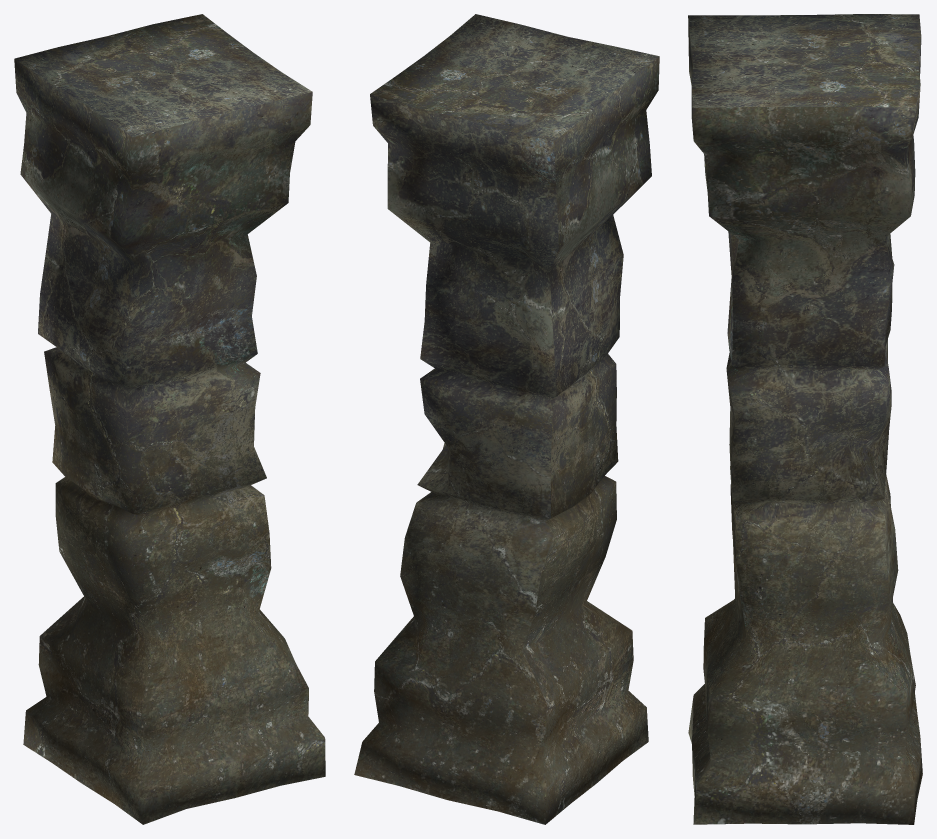
Rendered from low_poly_pillar.glb.
3 views of the same model, side by side, from view 1: azimuth 30°, elevation 25°; view 2: azimuth 150°, elevation 25°; view 3: azimuth 270°, elevation 25° (orthographic). The views are drawn at different scales.
Visible parts, largest first — view 1: Cube; view 2: Cube; view 3: Cube.
Part boxes in pixels (<box>): Cube: <box>14,14,325,824</box>; Cube: <box>354,14,659,824</box>; Cube: <box>688,14,922,824</box>.
Size of the model in its own units: 1.86 by 5.97 by 1.78.
Materials: 1 (1 with a texture image).
